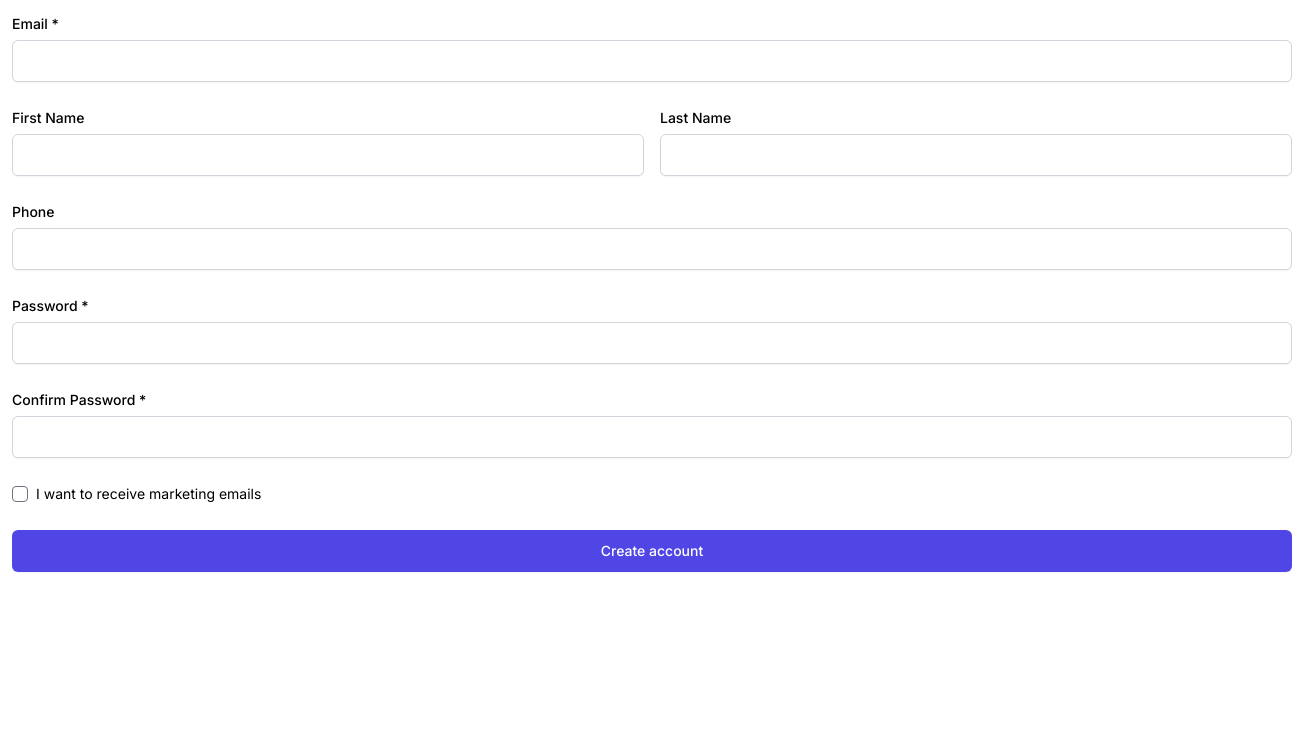
RegisterForm › should clear validation error when submitting with valid password
# First, trigger validation error
Step 1. Type "test@example.com" into the field labelled "Email *" → (652,61), box [12,40,1292,82]
Step 2. Type "short" into the password field labelled "Password *" → (652,343), box [12,322,1292,364]
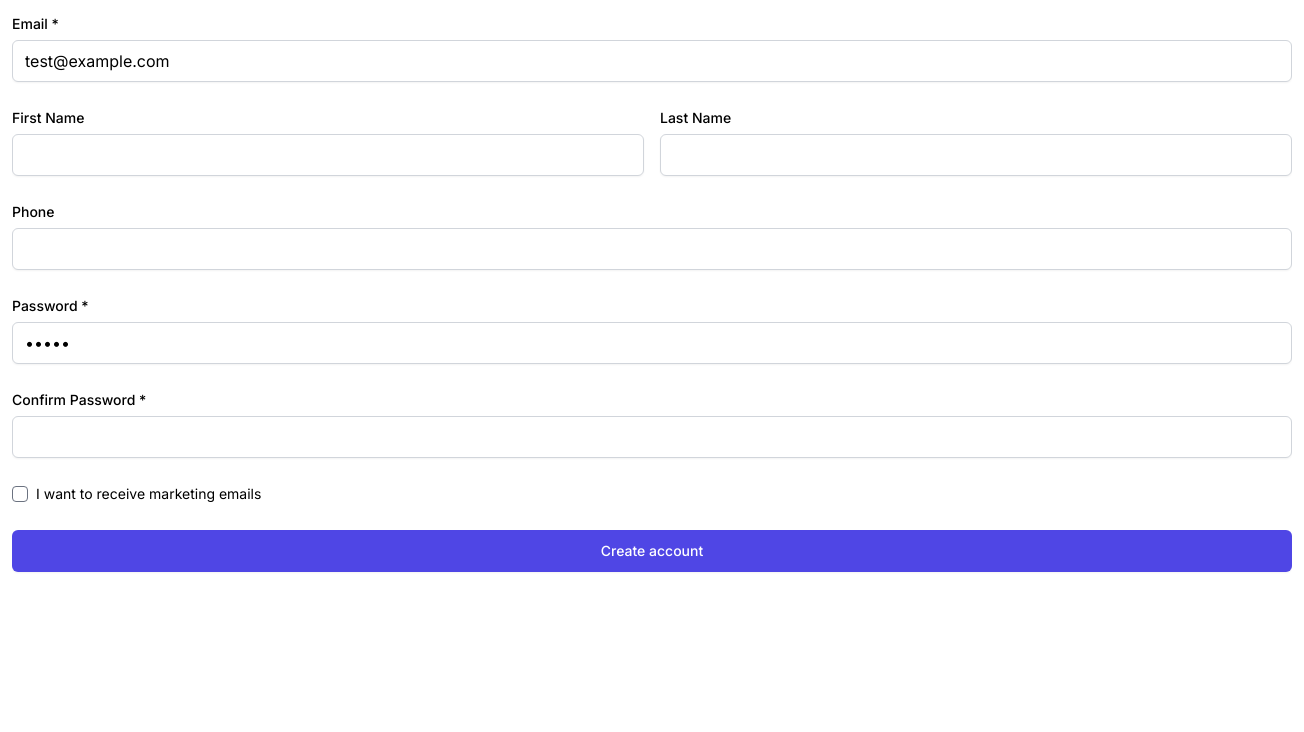
Step 3. Type "short" into the password field labelled "Confirm Password *" → (652,437), box [12,416,1292,458]
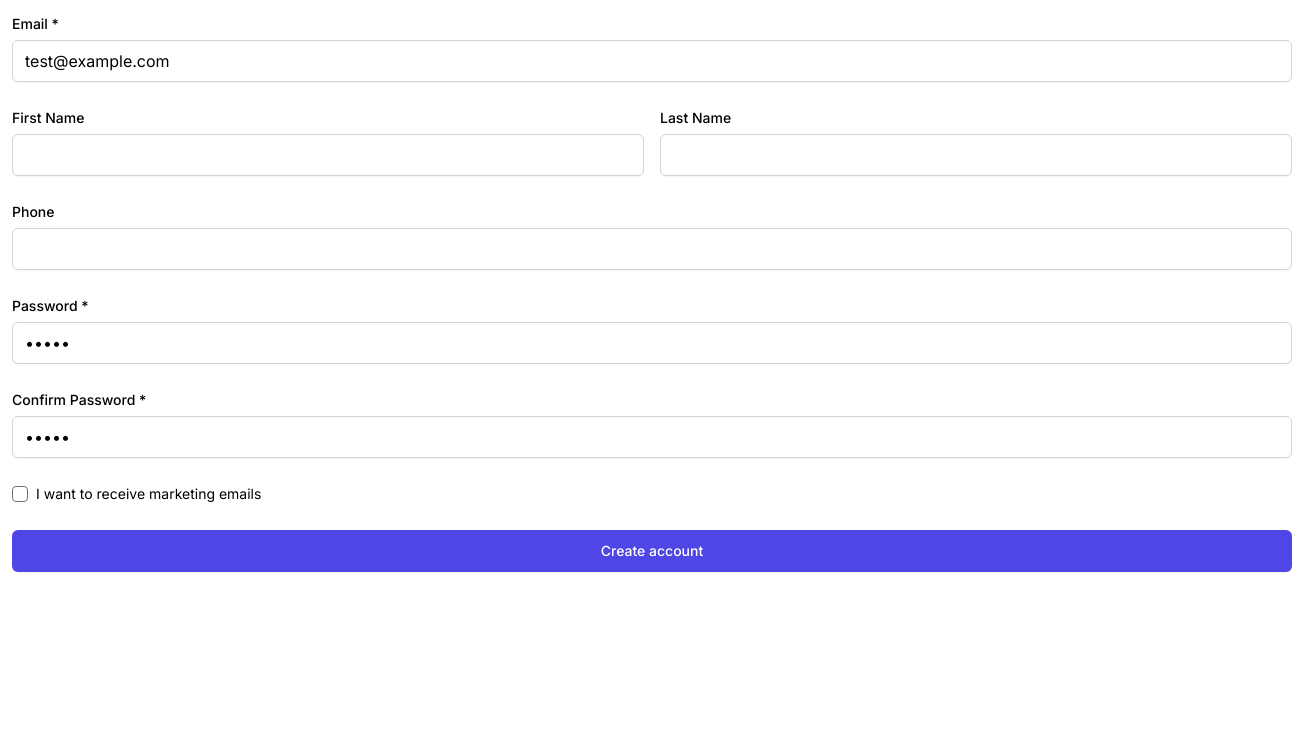
Step 4. Click the button "Create account" → (652,551), box [12,530,1292,572]
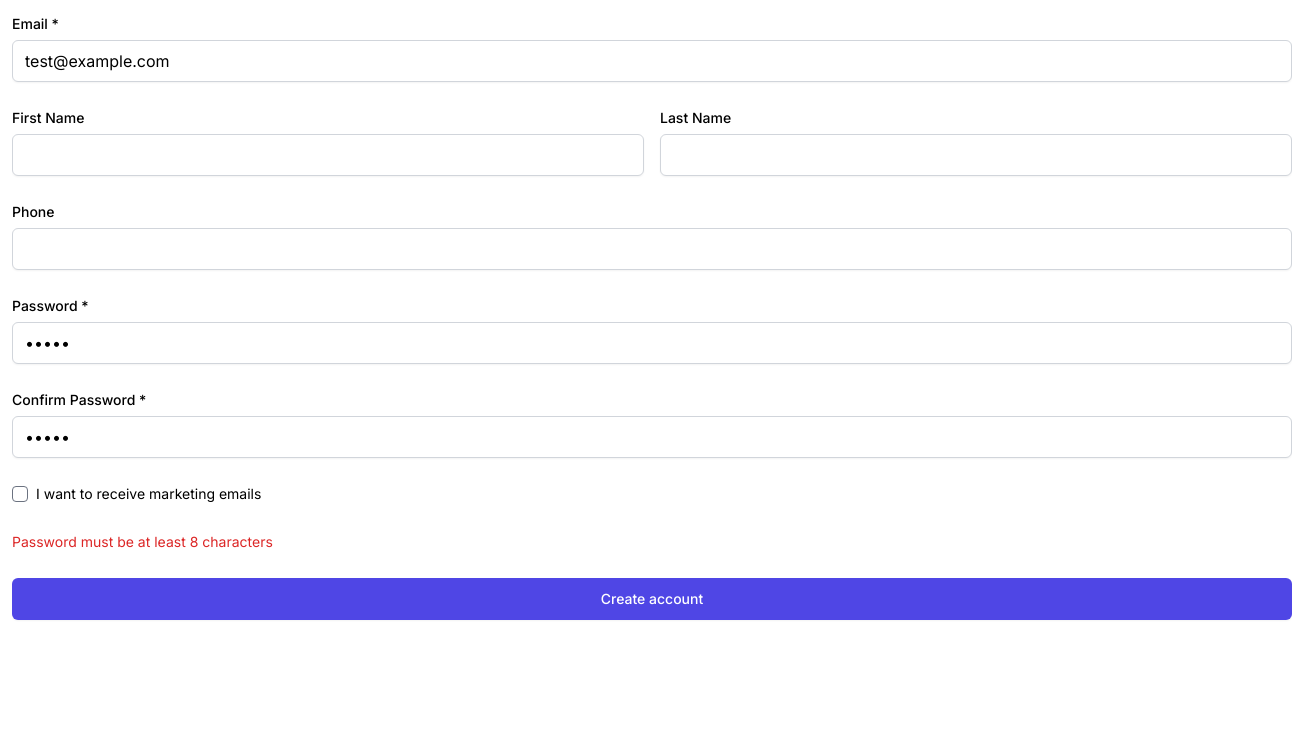
Result: the text "Password must be at least 8 characters" is shown at [12,533,273,550]
# Then fix the password and submit again
Step 5. Type "password123" into the password field labelled "Password *" → (652,343), box [12,322,1292,364]
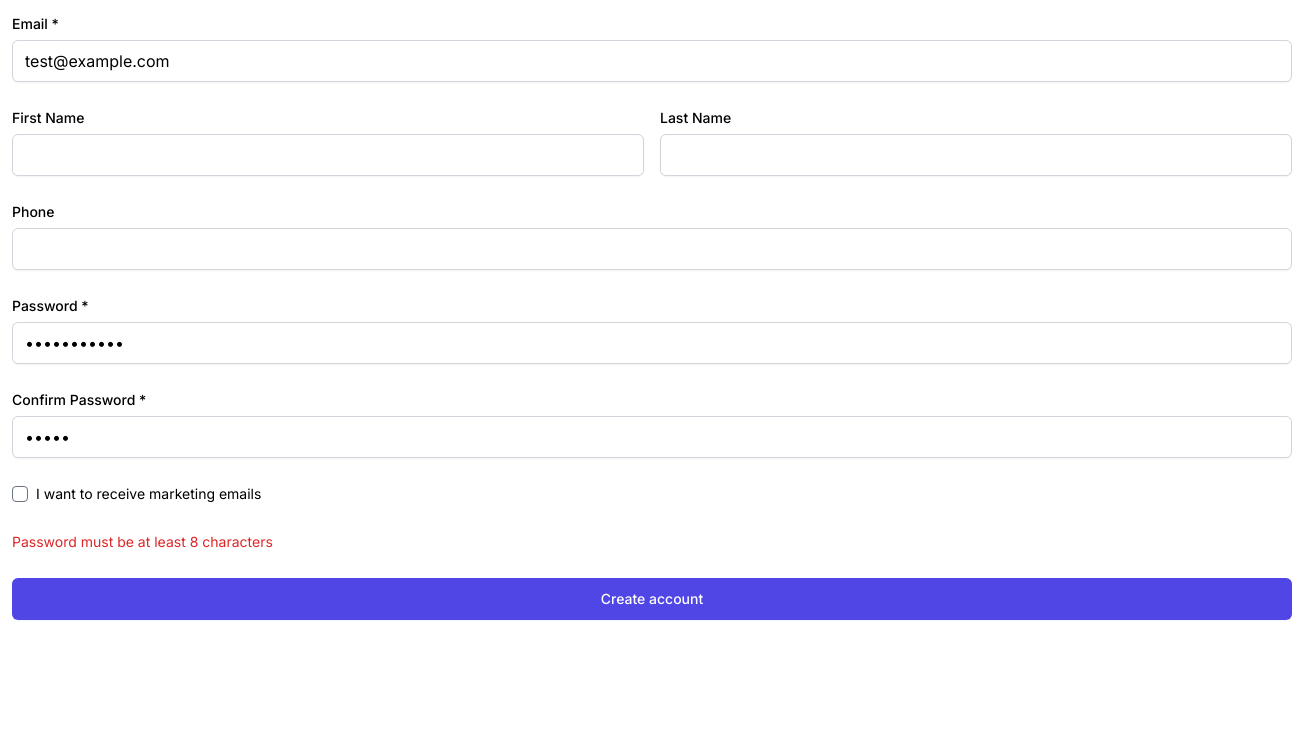
Step 6. Type "password123" into the password field labelled "Confirm Password *" → (652,437), box [12,416,1292,458]
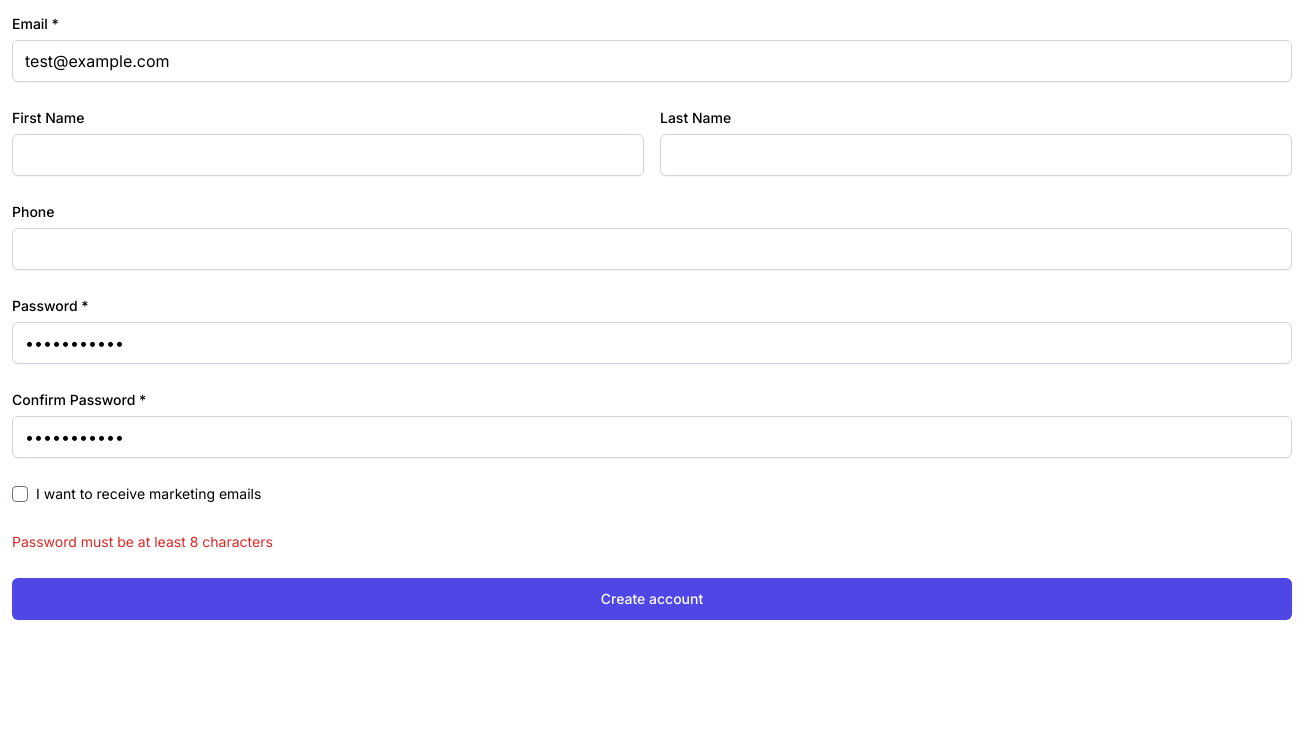
Step 7. Click the button "Create account" → (652,599), box [12,578,1292,620]
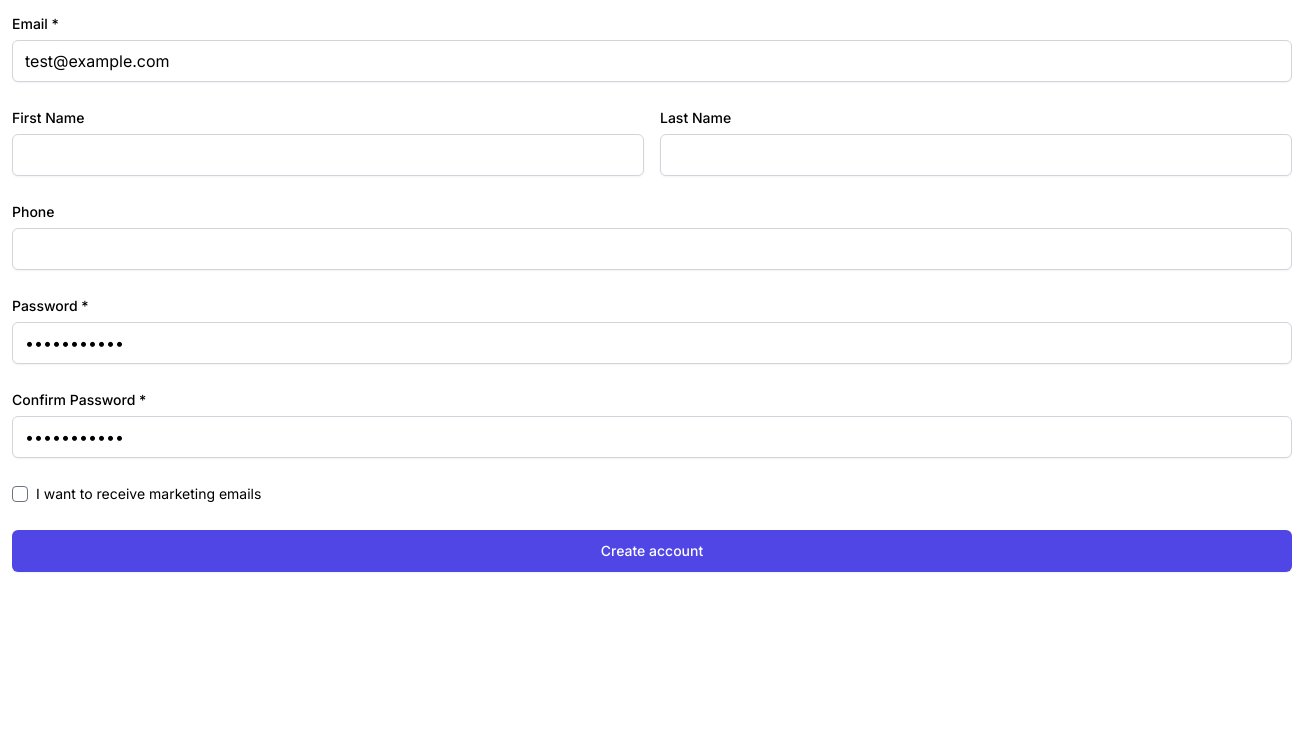
Result: the text "Password must be at least 8 characters" is gone
